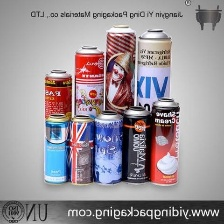aerosol_cans: (135, 25, 174, 155), (104, 22, 137, 152), (72, 43, 107, 161), (41, 68, 75, 167)
can: (143, 96, 183, 186), (116, 103, 152, 186), (92, 107, 126, 186), (39, 111, 73, 187), (67, 112, 97, 186)
